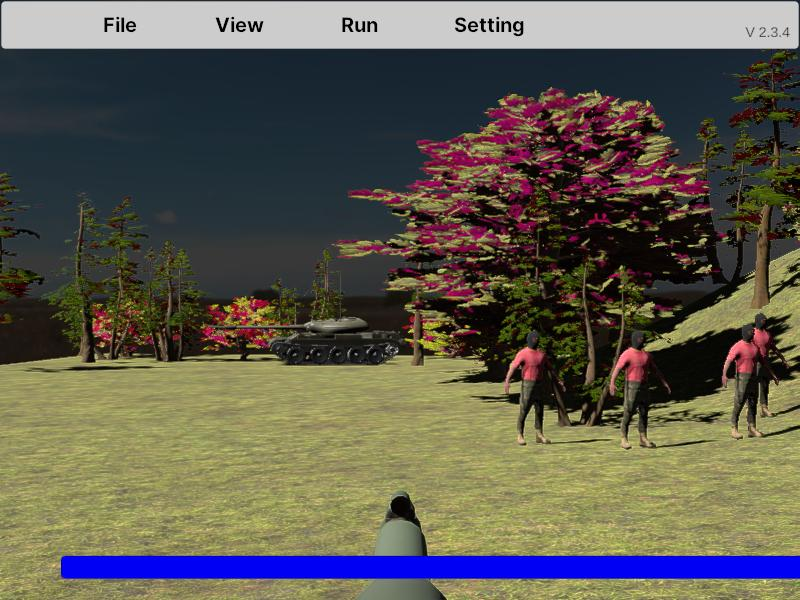Human: (610, 329, 671, 450), (504, 329, 560, 446), (722, 323, 776, 438), (745, 314, 786, 418)
Tank: (215, 317, 403, 366)
